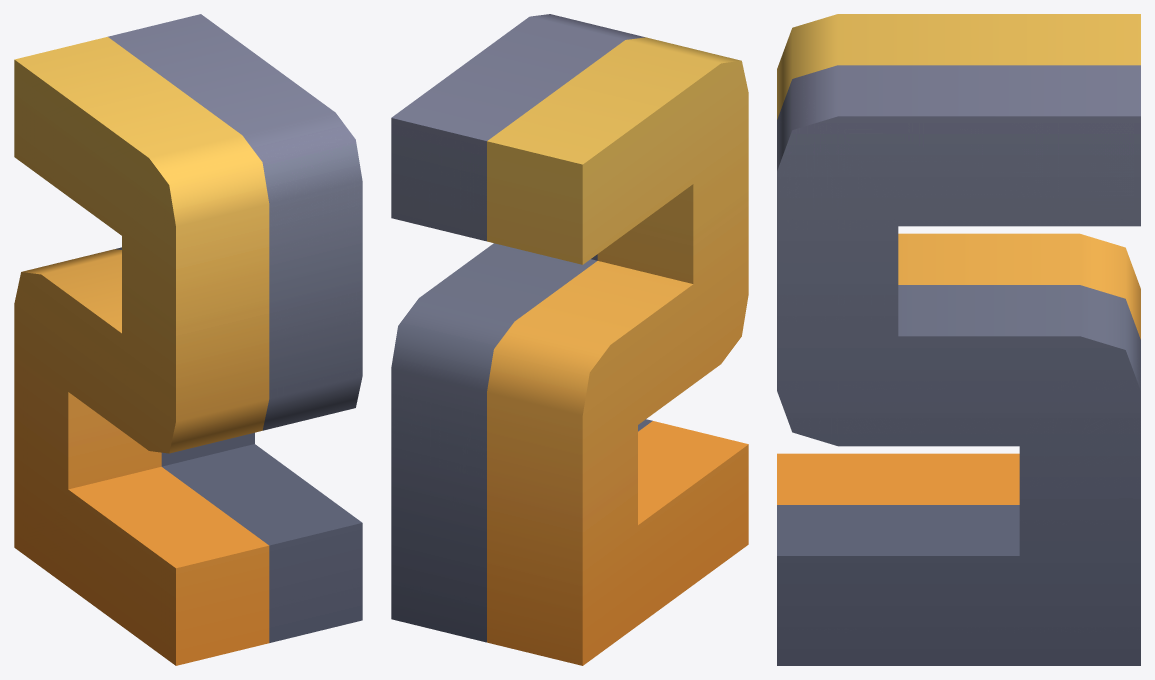
The model's file is number-double-2.glb.
3 views of the same model, side by side, from view 1: azimuth 30°, elevation 25°; view 2: azimuth 150°, elevation 25°; view 3: azimuth 270°, elevation 25° (orthographic). The views are drawn at different scales.
Parts seen in each view (by area): view 1: number-double-2; view 2: number-double-2; view 3: number-double-2.
Boxes of the visible parts, box(x1,y1,x2,y2) form: number-double-2: box(14, 14, 362, 665); number-double-2: box(391, 14, 748, 665); number-double-2: box(777, 14, 1140, 665).
Size of the model in its own units: 0.2 by 0.5 by 0.3.
1 material, 1 textured.
